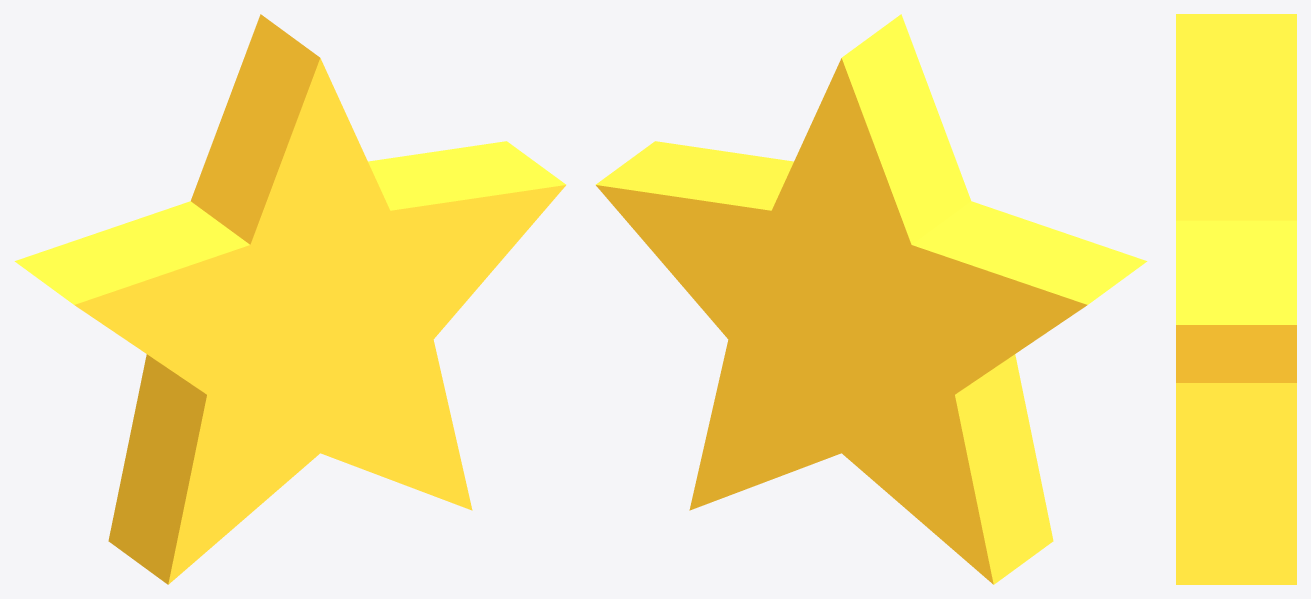
File: star.gltf
The picture shows the model from 3 angles, left to right: view 1: azimuth 30°, elevation 25°; view 2: azimuth 150°, elevation 25°; view 3: azimuth 270°, elevation 25°; orthographic projection.
Visible parts, largest first — view 1: StarMesh; view 2: StarMesh; view 3: StarMesh.
Part boxes in pixels (x1,y1,x2,y2): StarMesh: (14,14,566,584); StarMesh: (595,14,1147,584); StarMesh: (1176,14,1296,584).
Bounding box in the file's own units: 0.9511 × 0.9045 × 0.2.
